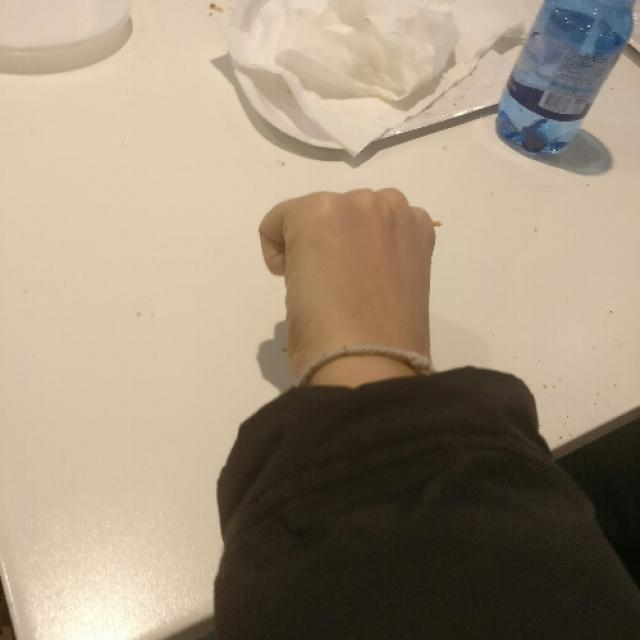fist: (256, 184, 439, 360)
